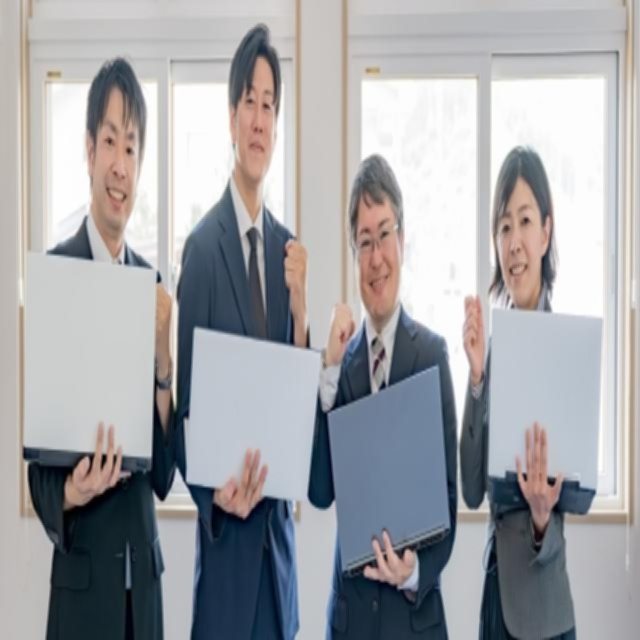Sin_Casco_Mascarrilla: (86, 54, 145, 236), (491, 146, 555, 302), (347, 147, 405, 309), (226, 22, 283, 169)
